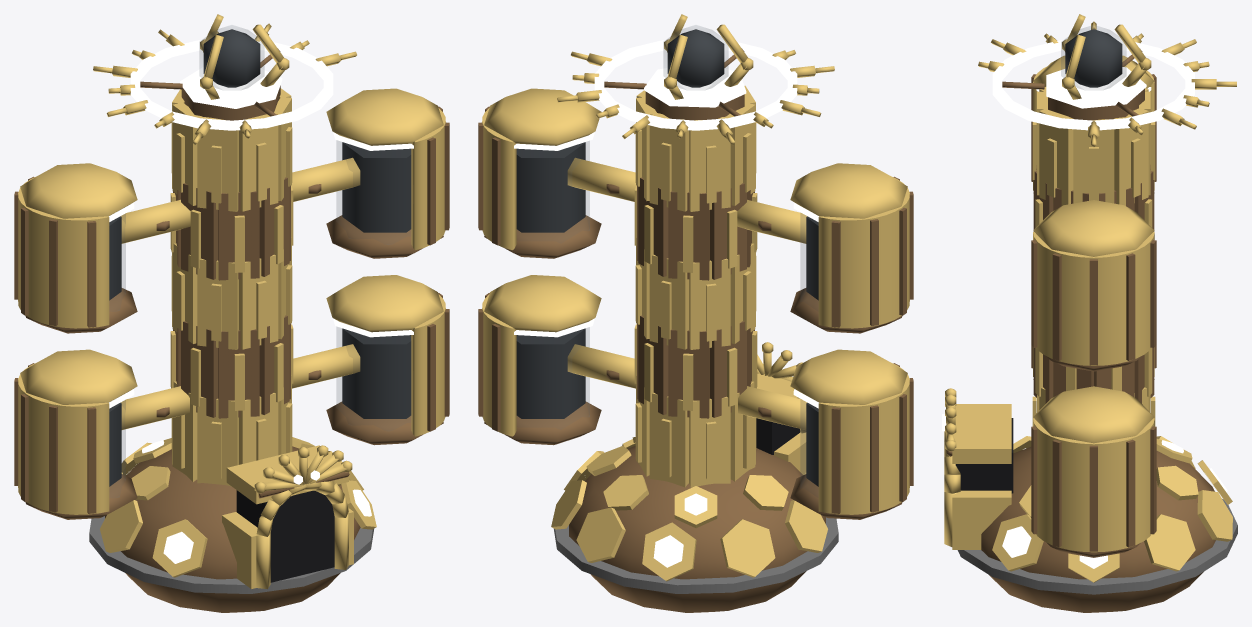
File: SOLAR_Vat_T3.glb
The picture shows the model from 3 angles, left to right: view 1: azimuth 30°, elevation 25°; view 2: azimuth 150°, elevation 25°; view 3: azimuth 270°, elevation 25°; orthographic projection.
Parts seen in each view (by area): view 1: SOLAR_Vat_T3; view 2: SOLAR_Vat_T3; view 3: SOLAR_Vat_T3.
Boxes of the visible parts, x1=… form: SOLAR_Vat_T3: x1=14, y1=14, x2=449, y2=612; SOLAR_Vat_T3: x1=478, y1=14, x2=913, y2=612; SOLAR_Vat_T3: x1=942, y1=14, x2=1237, y2=612.
Bounding box in the file's own units: 5.87 × 7.66 × 3.6.
